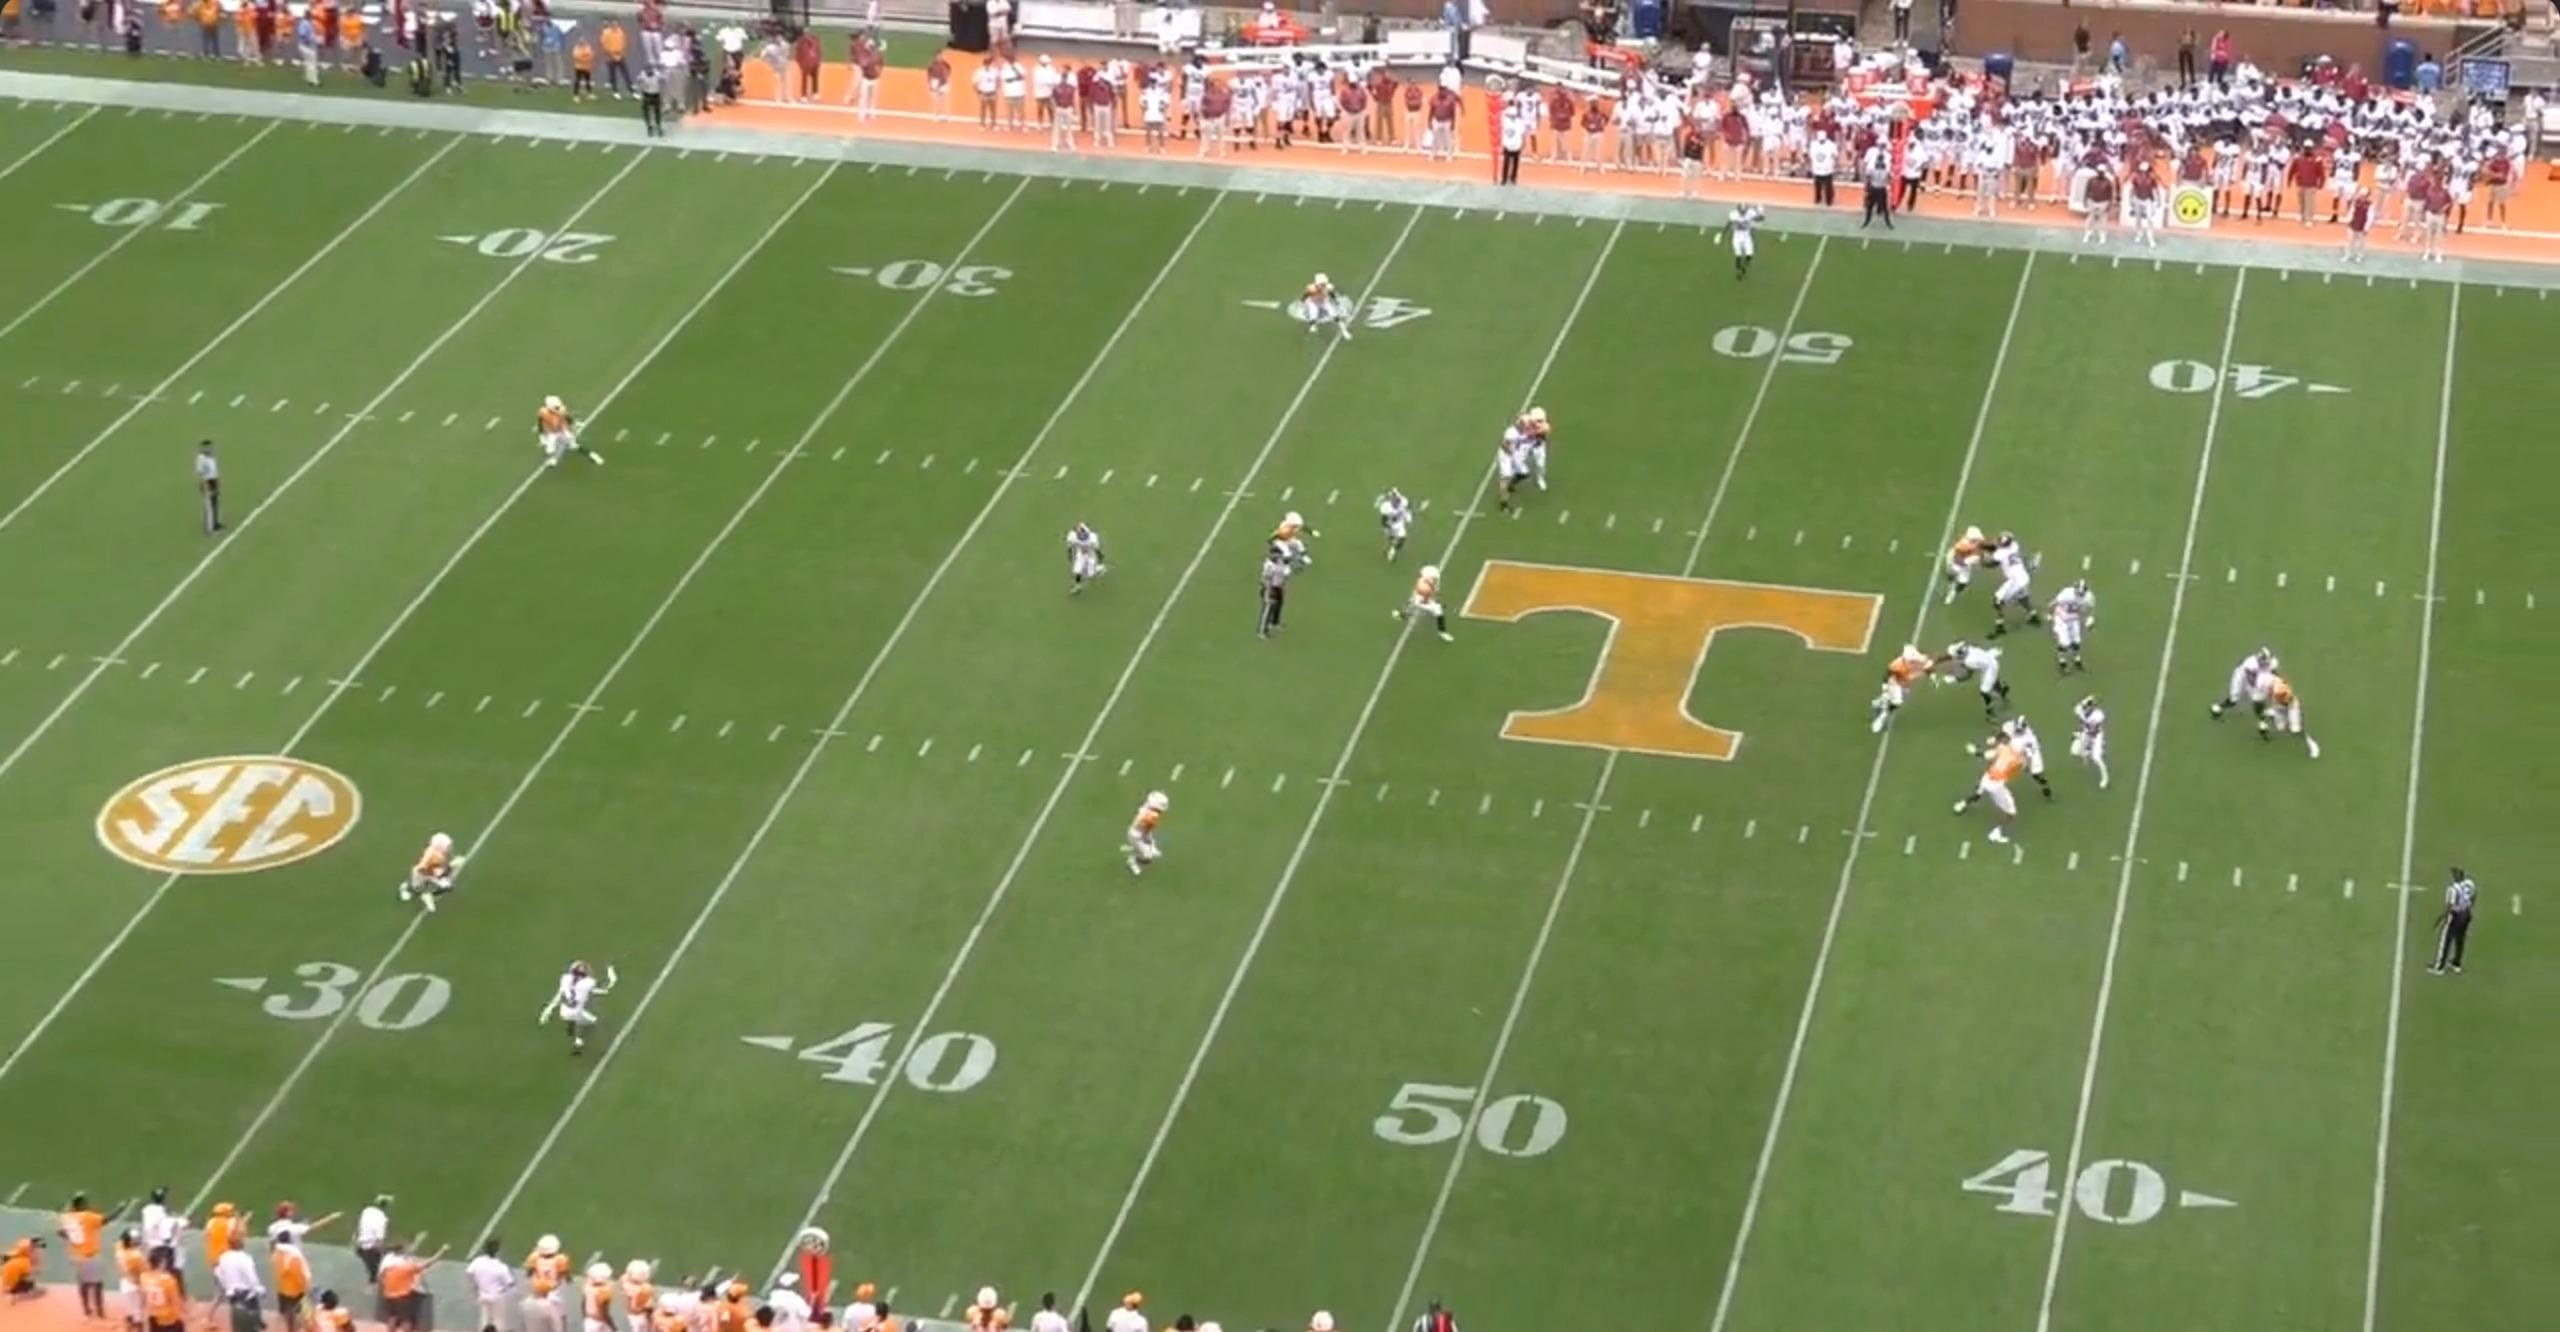player: (1957, 743, 2032, 856), (2253, 661, 2333, 766), (1972, 716, 2059, 808), (542, 953, 619, 1054), (1874, 644, 1947, 741), (2207, 648, 2281, 737), (399, 830, 471, 920), (1934, 638, 2009, 720), (1980, 539, 2040, 640), (531, 389, 604, 470), (2046, 577, 2101, 682), (1115, 790, 1173, 886), (1390, 563, 1457, 646), (2059, 696, 2112, 796), (1495, 420, 1544, 516), (1728, 194, 1777, 284), (1936, 523, 1986, 610), (1071, 519, 1122, 602), (1299, 274, 1354, 345), (1375, 480, 1421, 564), (1518, 405, 1560, 497), (1266, 508, 1320, 574)
ref: (2426, 864, 2479, 981), (1856, 144, 1909, 234), (1251, 549, 1294, 646), (189, 440, 228, 543), (635, 57, 678, 142)
